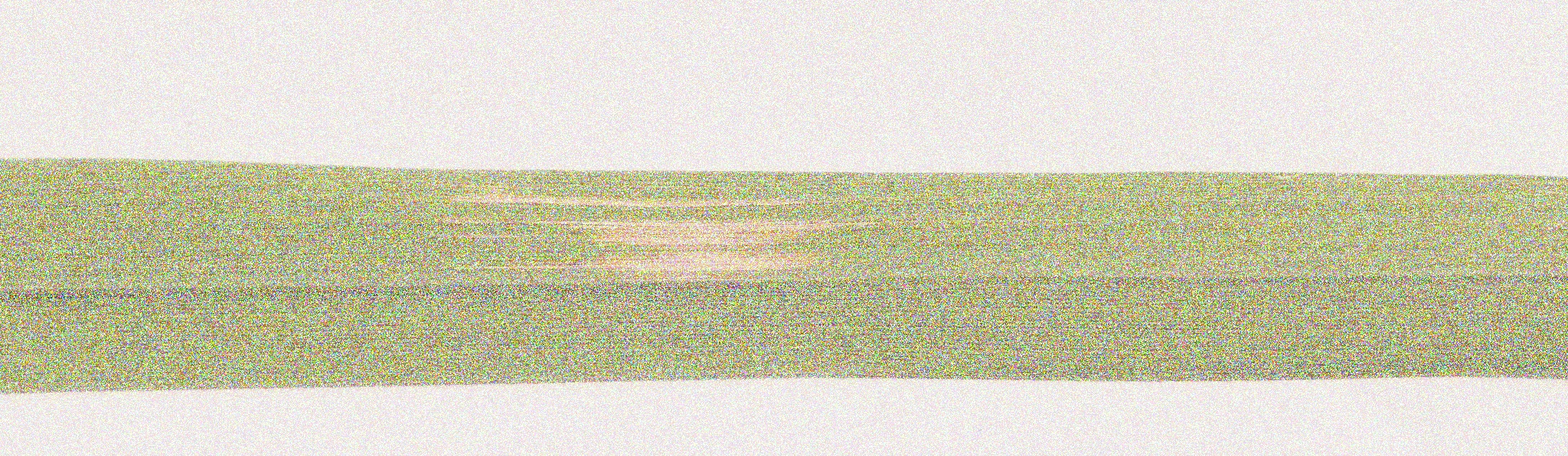Leaf_Blast: (382, 160, 940, 313)
